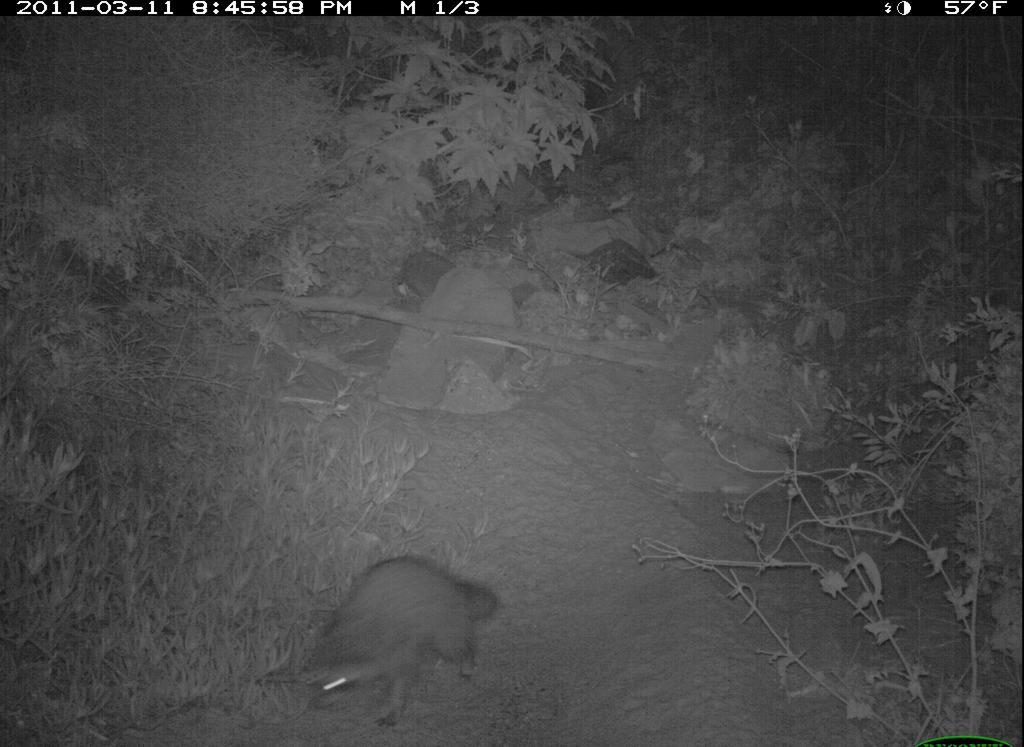raccoon: (274, 537, 507, 734)
